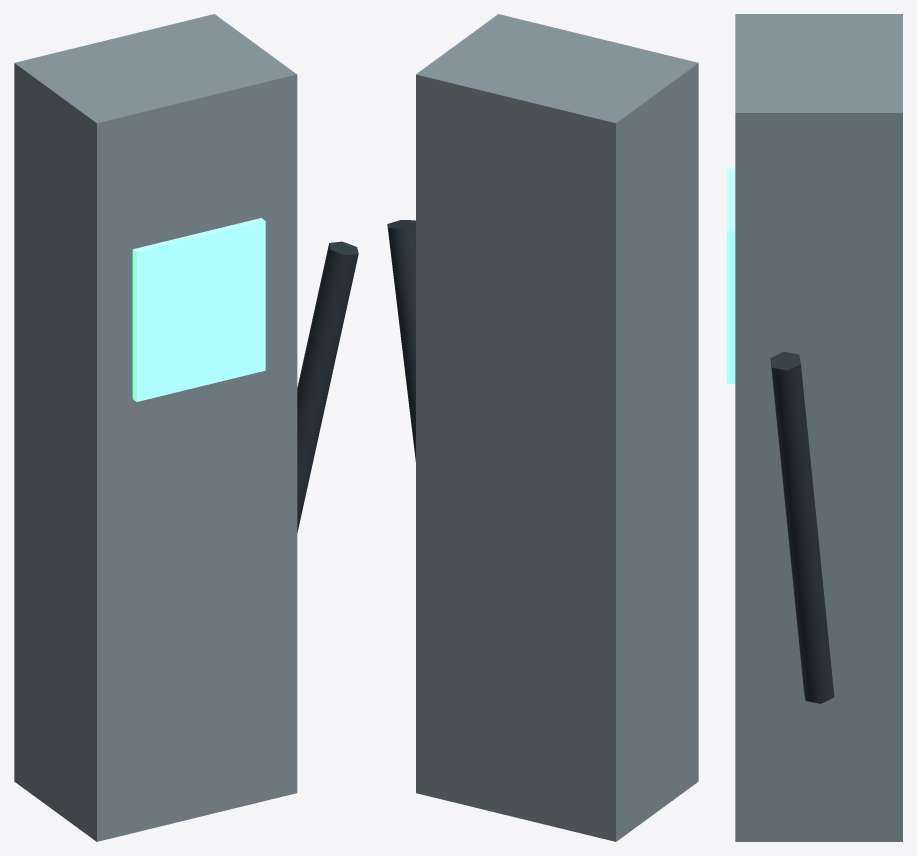
The model's file is charger.lod2.glb.
3 renders of one model, left to right at view 1: azimuth 30°, elevation 25°; view 2: azimuth 150°, elevation 25°; view 3: azimuth 270°, elevation 25°, orthographic.
Visible parts, largest first — view 1: structure; view 2: structure; view 3: structure.
Boxes of the visible parts, x1=… form: structure: x1=14, y1=14, x2=358, y2=841; structure: x1=387, y1=14, x2=698, y2=841; structure: x1=727, y1=14, x2=902, y2=841.
Bounding box in the file's own units: 0.999 × 2.4 × 0.525.
